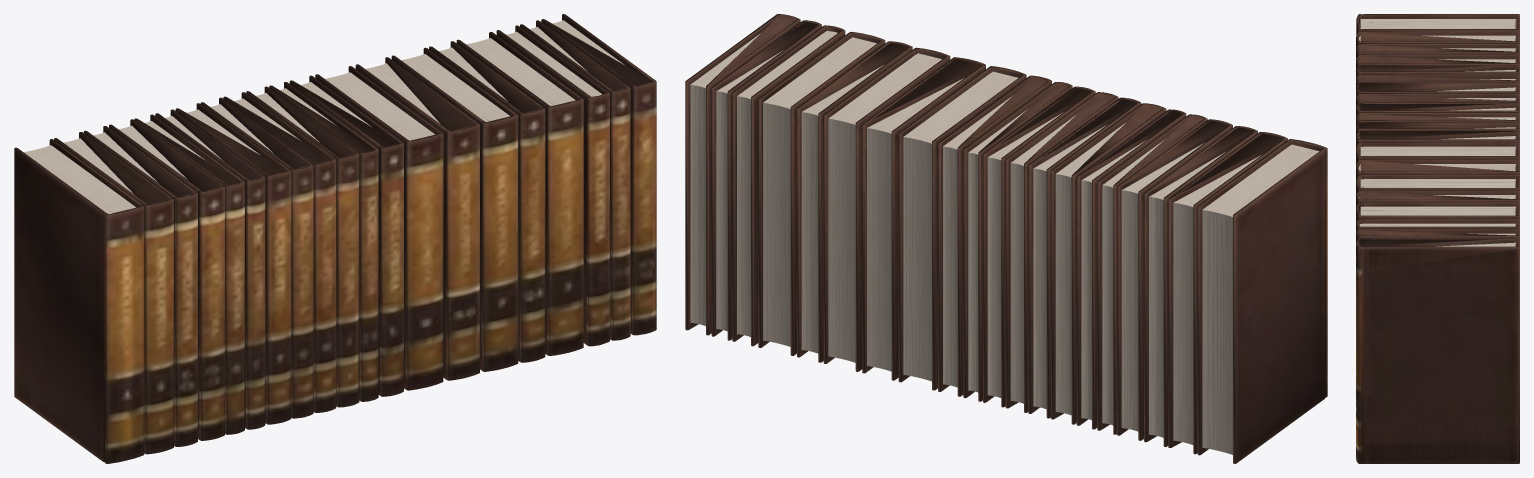
Rendered from book_encyclopedia_set_01.glb.
The picture shows the model from 3 angles, left to right: view 1: azimuth 30°, elevation 25°; view 2: azimuth 150°, elevation 25°; view 3: azimuth 270°, elevation 25°; orthographic projection. The views are drawn at different scales.
Parts seen in each view (by area): view 1: book_encyclopedia_set_01_book01, book_encyclopedia_set_01_book01_lo; view 2: book_encyclopedia_set_01_book01, book_encyclopedia_set_01_book01_lo; view 3: book_encyclopedia_set_01_book01, book_encyclopedia_set_01_book01_lo.
Part boxes in pixels (x1,y1,x2,y2): book_encyclopedia_set_01_book01: (14,14,656,463); book_encyclopedia_set_01_book01_lo: (15,14,655,462); book_encyclopedia_set_01_book01: (685,14,1327,463); book_encyclopedia_set_01_book01_lo: (685,15,1325,453); book_encyclopedia_set_01_book01: (1356,14,1519,463); book_encyclopedia_set_01_book01_lo: (1356,14,1518,463).
Size of the model in its own units: 0.5513 by 0.2374 by 0.1631.
2 materials, 2 textured.
